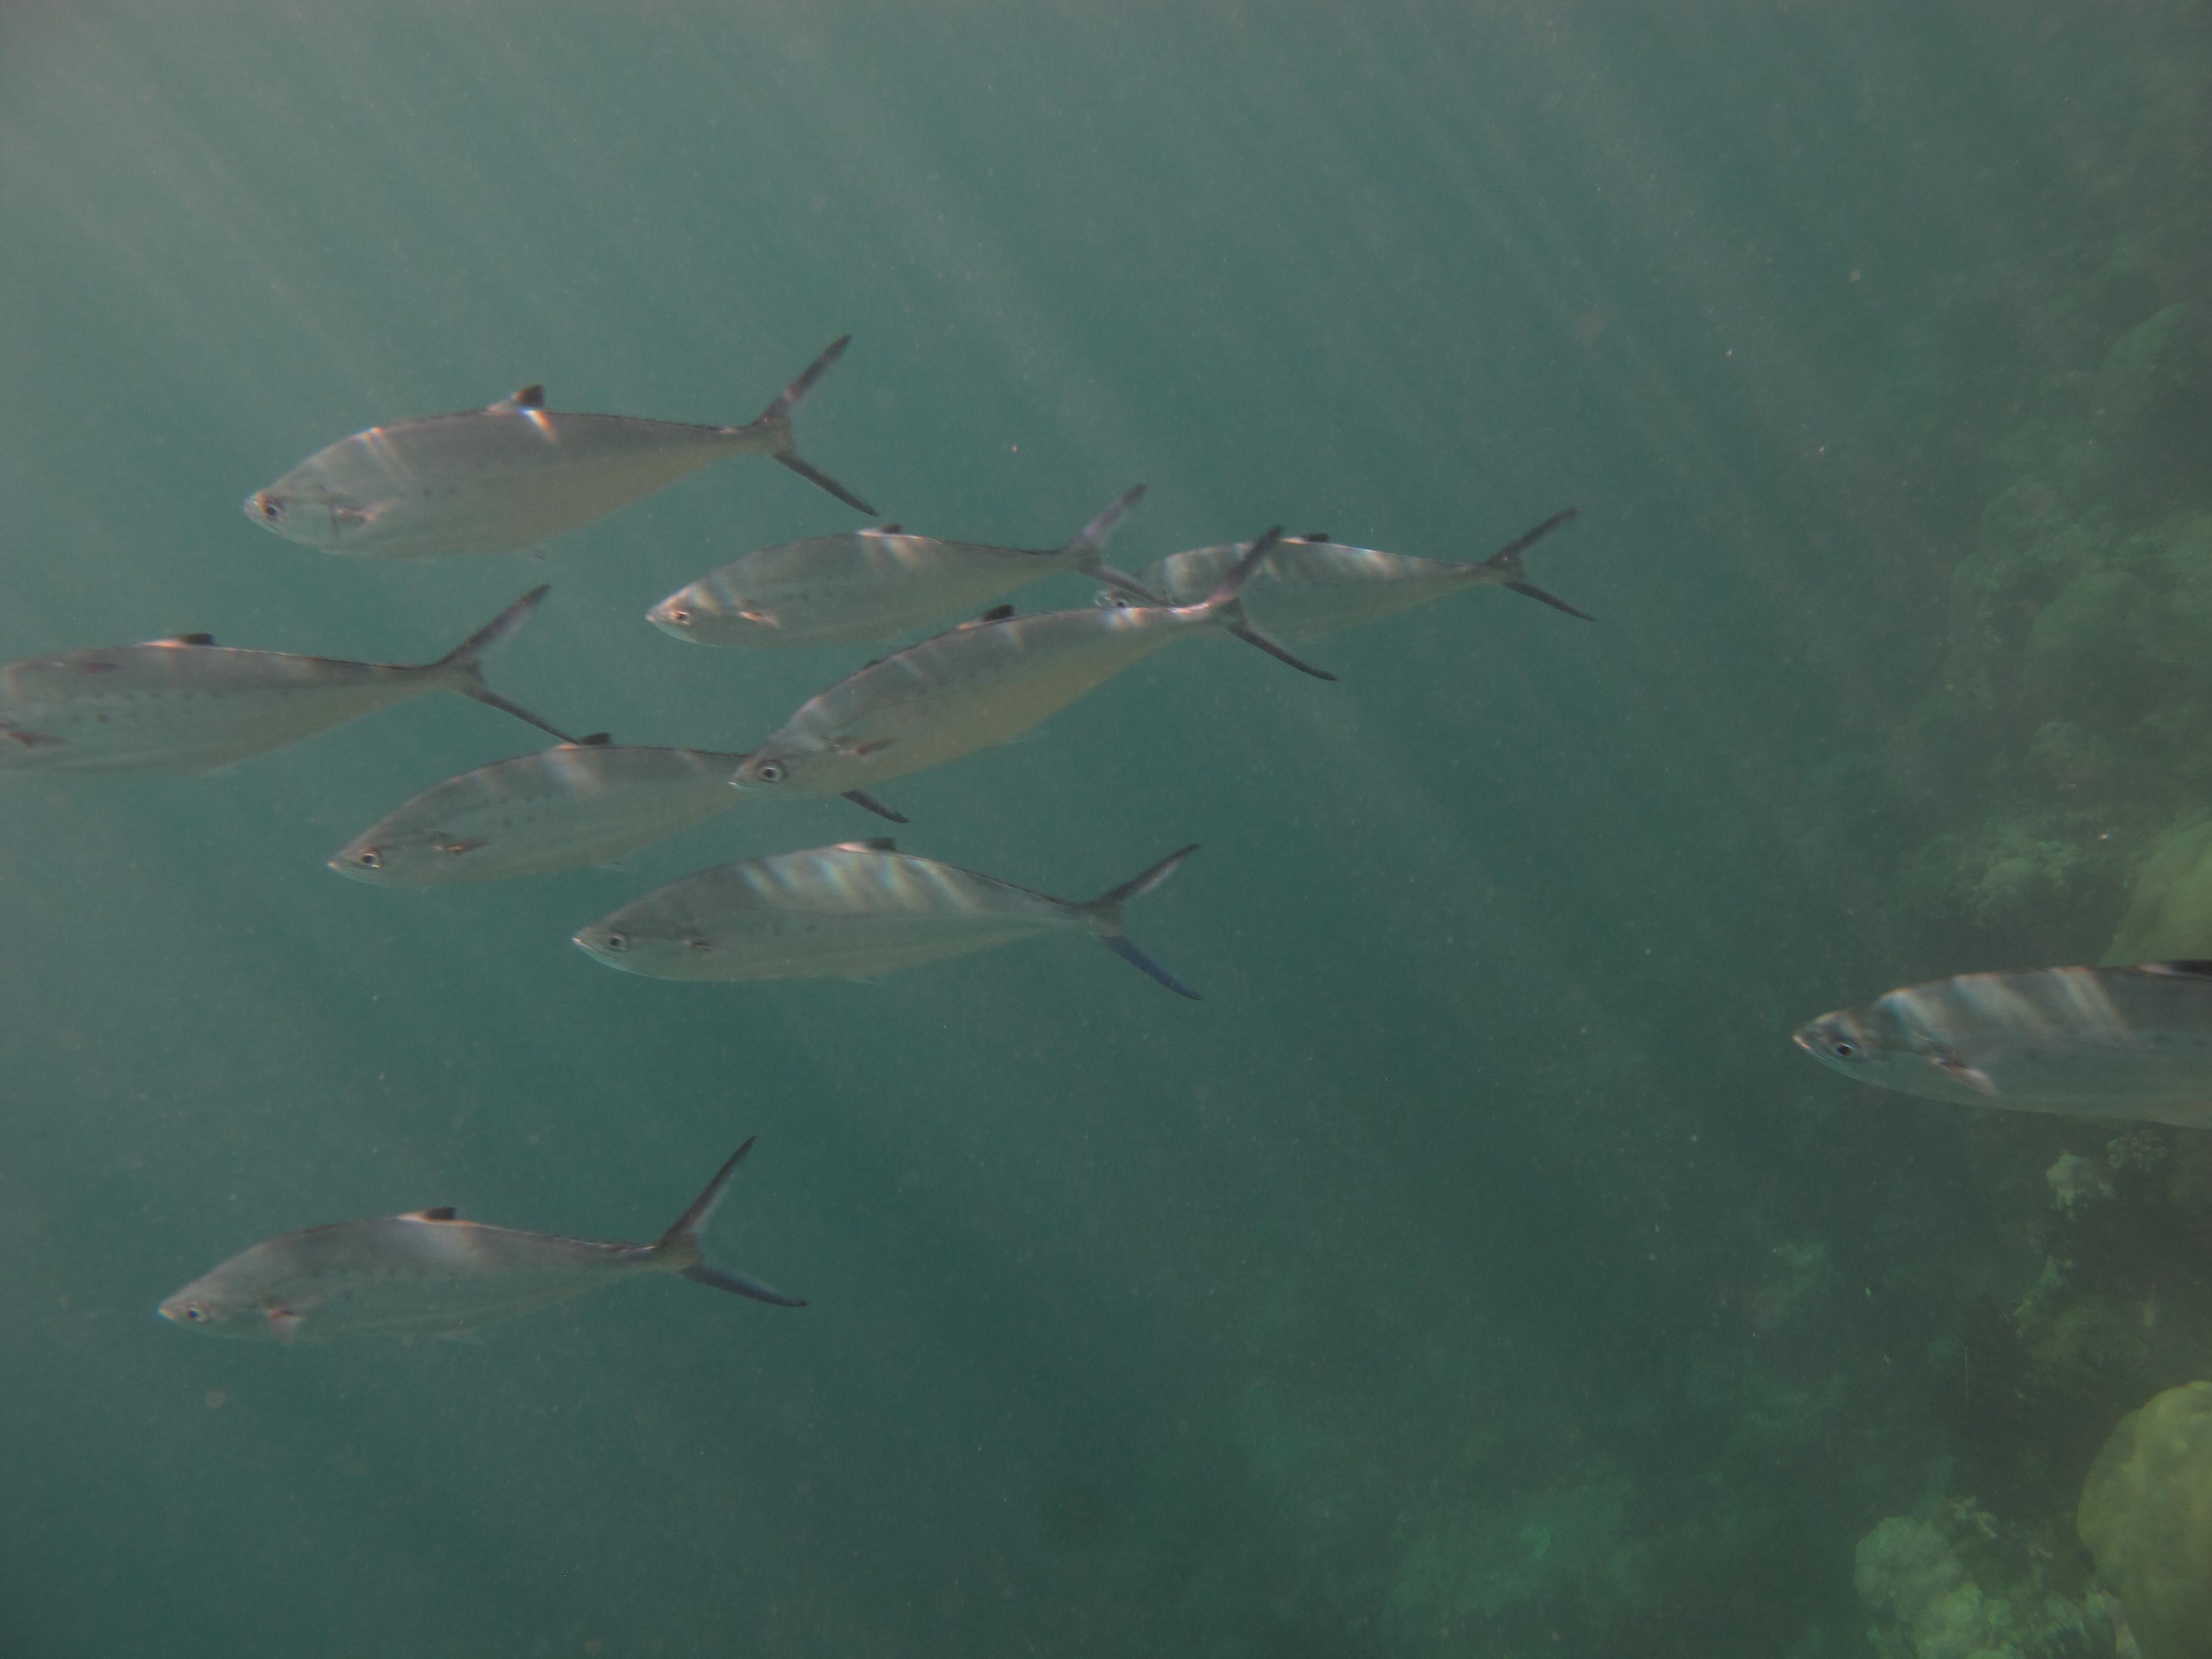Fish: (723, 495, 1325, 810), (568, 816, 1268, 1080), (228, 310, 895, 545), (0, 549, 613, 795), (113, 1131, 822, 1340)
